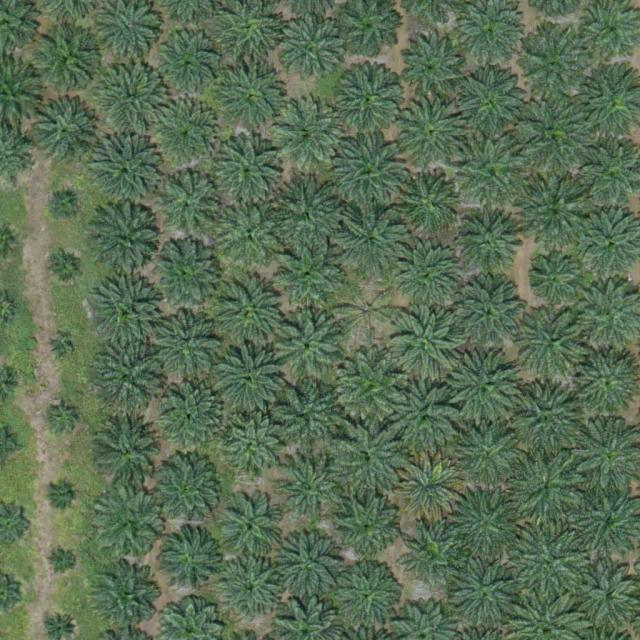Healthy: (216, 61, 294, 140), (518, 175, 596, 254), (508, 451, 586, 530), (511, 525, 589, 604), (206, 129, 284, 208), (401, 34, 472, 105), (99, 63, 170, 134), (509, 385, 580, 456), (447, 351, 518, 422), (270, 381, 341, 452), (269, 179, 340, 250), (395, 97, 466, 168), (330, 491, 401, 562), (518, 31, 588, 102), (456, 2, 526, 73), (458, 66, 528, 137), (334, 63, 405, 133), (32, 28, 102, 99), (518, 308, 588, 379), (449, 557, 519, 628), (28, 97, 98, 168), (152, 239, 222, 310), (157, 167, 227, 238), (148, 97, 218, 168), (216, 198, 287, 268), (218, 275, 288, 346), (216, 342, 286, 413), (275, 314, 346, 384), (273, 240, 343, 311), (273, 98, 343, 169), (336, 135, 406, 206), (335, 352, 406, 422), (390, 382, 460, 453), (391, 306, 461, 377), (395, 246, 465, 317), (457, 134, 527, 205), (455, 278, 525, 349), (333, 425, 403, 496), (151, 457, 222, 527), (91, 566, 161, 637), (95, 491, 165, 562), (279, 19, 349, 89), (519, 100, 589, 170), (455, 420, 525, 490), (449, 488, 519, 558), (92, 139, 162, 209), (92, 209, 162, 279), (93, 278, 163, 348), (94, 342, 164, 412), (94, 414, 164, 484), (337, 205, 407, 275), (276, 454, 346, 524), (162, 384, 225, 447), (156, 38, 218, 101), (160, 313, 222, 376), (223, 418, 285, 481), (459, 209, 521, 272), (337, 566, 399, 629), (279, 532, 341, 595), (221, 500, 283, 563), (162, 529, 224, 592), (397, 173, 459, 235), (222, 558, 284, 620), (405, 527, 460, 582), (530, 257, 577, 304)
Small: (48, 402, 79, 434), (46, 479, 77, 511), (48, 547, 79, 578), (50, 190, 81, 221), (50, 254, 81, 285), (49, 336, 73, 360)
Yellow: (394, 455, 465, 525), (337, 281, 400, 344)
